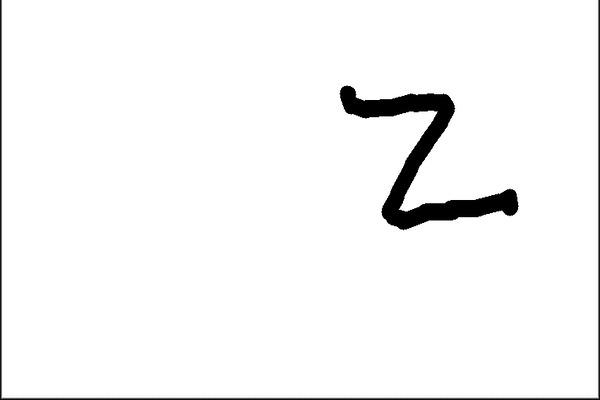Z: (318, 69, 531, 234)
